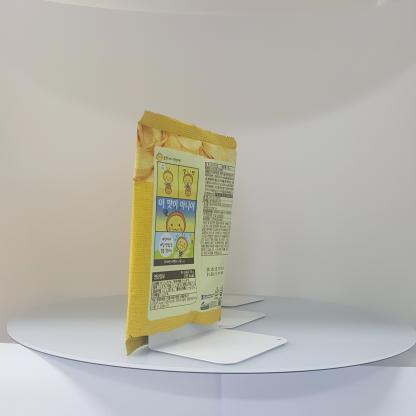Plastic Packaging: (119, 102, 249, 362)
